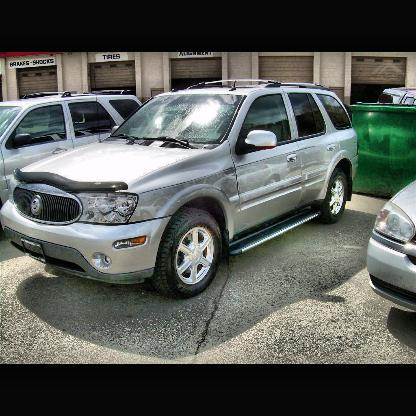Buick Rainier SUV 2007: (4, 81, 360, 296)
